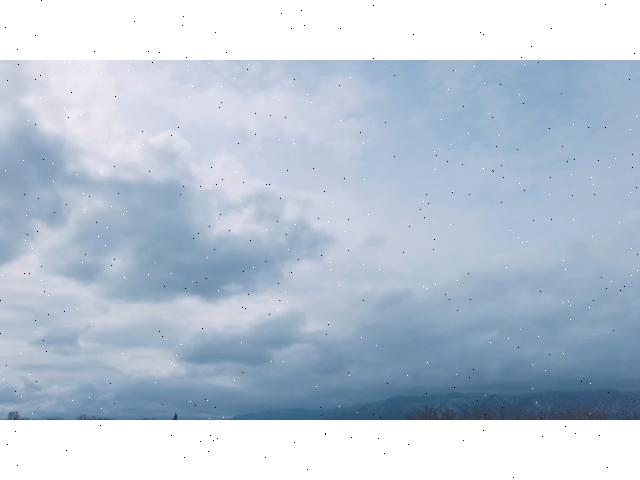Anti-Drone: (274, 296, 286, 304)
